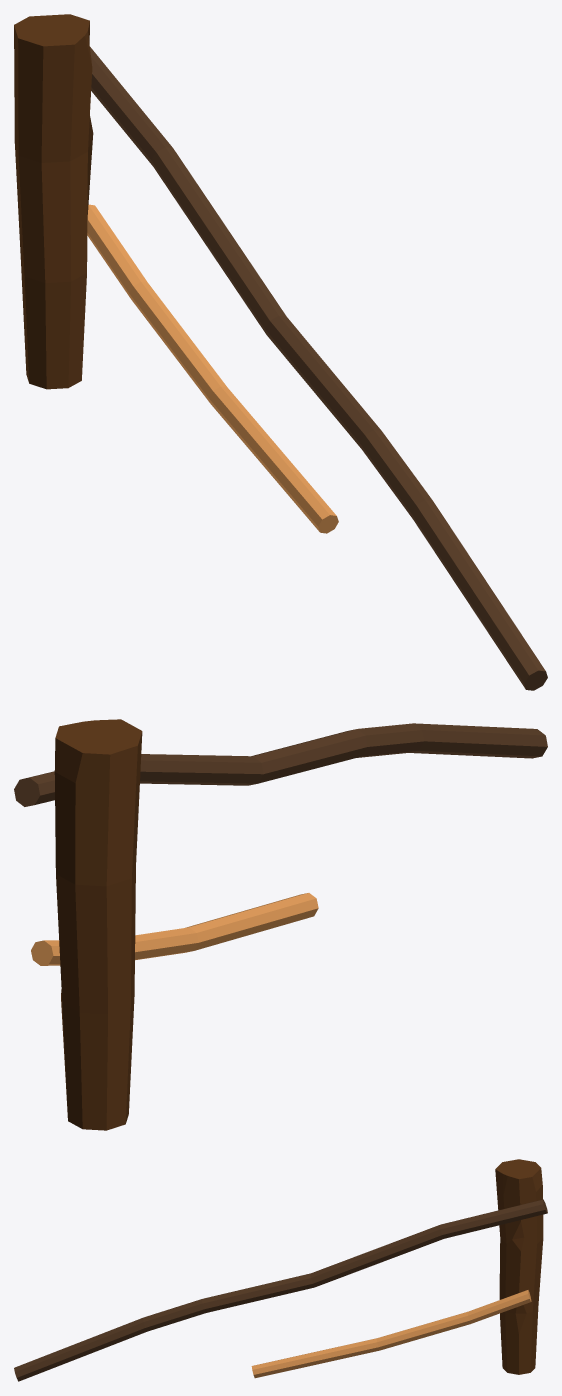
The model's file is Fence_2.fbx.
3 renders of one model, top to bottom at view 1: azimuth 30°, elevation 25°; view 2: azimuth 150°, elevation 25°; view 3: azimuth 270°, elevation 25°, orthographic. The views are drawn at different scales.
Parts seen in each view (by area): view 1: fence_1; view 2: fence_1; view 3: fence_1.
Boxes of the visible parts, x1,y1,x2,y2 form: fence_1: (14, 14, 547, 690); fence_1: (14, 719, 547, 1130); fence_1: (14, 1159, 547, 1381).
Bounding box in the file's own units: 49.82 × 186 × 449.
